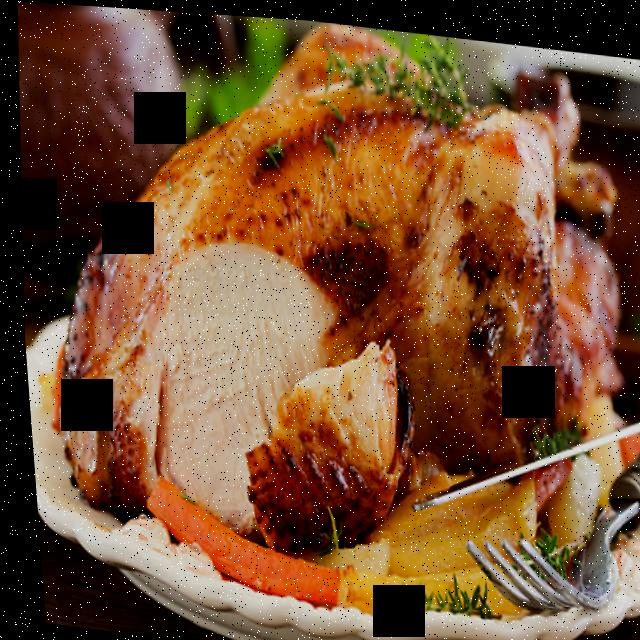Frango: (17, 1, 640, 623)
